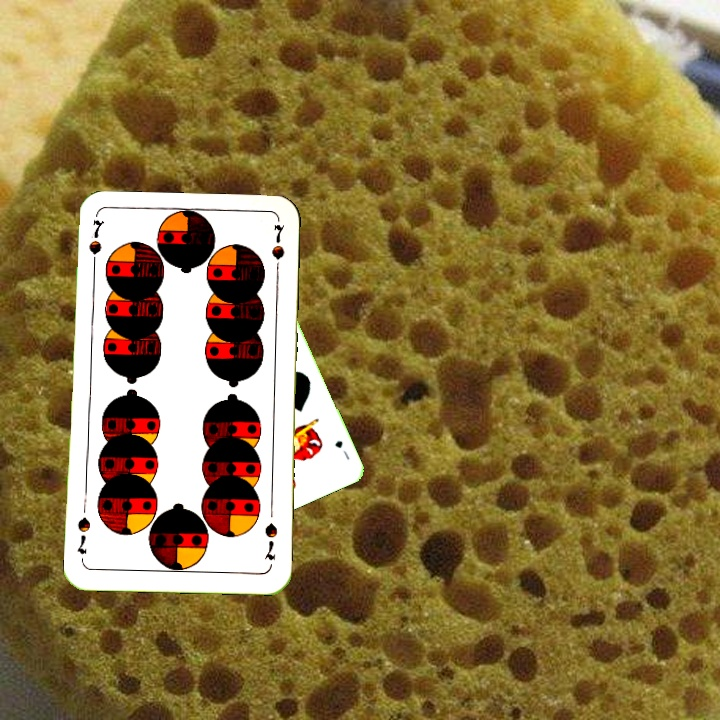GU: (331, 436, 352, 462)
S7: (85, 215, 106, 274), (260, 519, 280, 563)
